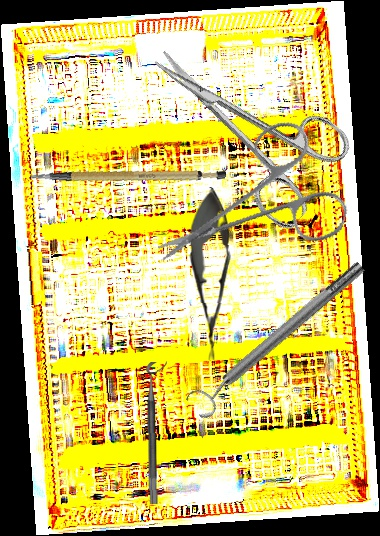Fixation Ring: (182, 253, 374, 423), (146, 361, 170, 504)
Iris Scissors: (125, 10, 361, 234), (154, 95, 369, 310)
Micro Scissor: (187, 186, 235, 362)
Scalpel Handle: (29, 141, 227, 207)
